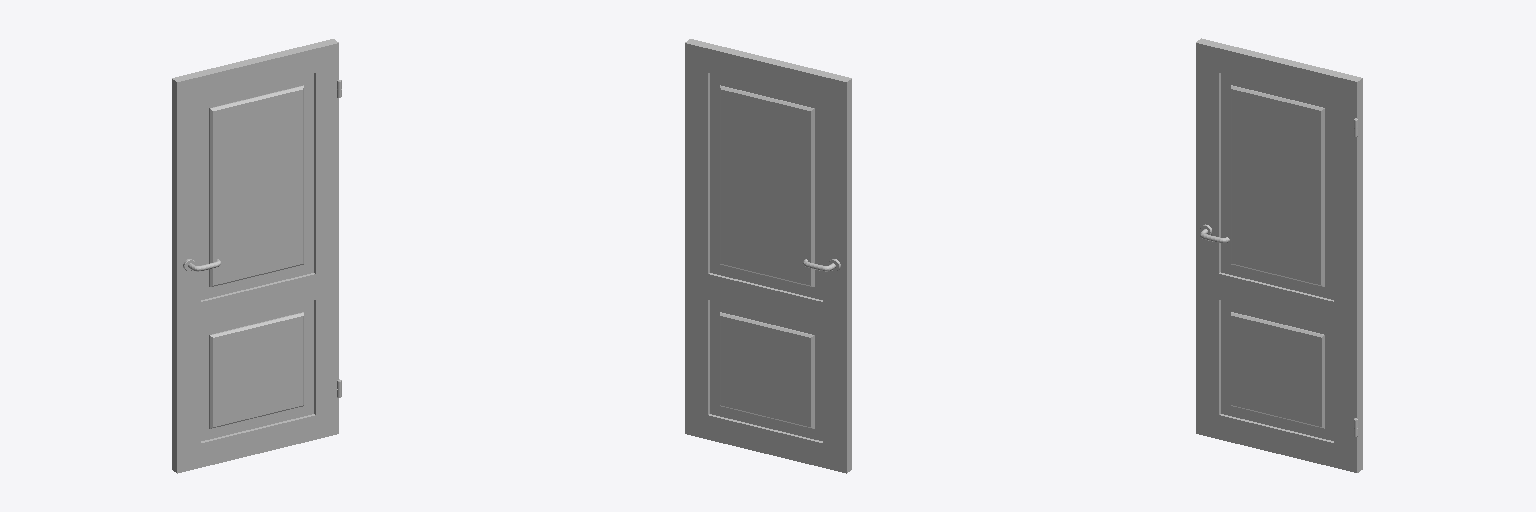
Rendered from door.obj.
3 renders of one model, left to right at view 1: azimuth 30°, elevation 25°; view 2: azimuth 150°, elevation 25°; view 3: azimuth 330°, elevation 25°, orthographic.
Visible parts, largest first — view 1: Cylinder; view 2: Cylinder; view 3: Cylinder.
Boxes of the visible parts, <box> form: Cylinder: <box>172,39,341,473</box>; Cylinder: <box>685,39,851,473</box>; Cylinder: <box>1196,38,1362,472</box>.
Size of the model in its own units: 2.58 by 5.91 by 0.6178.